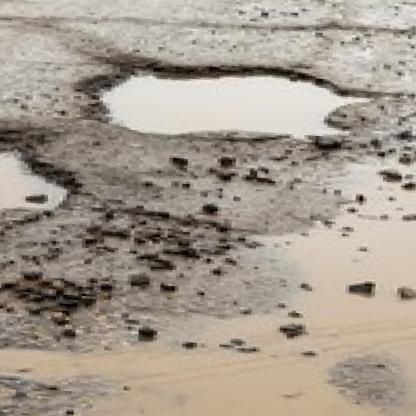pothole: (82, 51, 379, 151), (0, 121, 78, 221)
